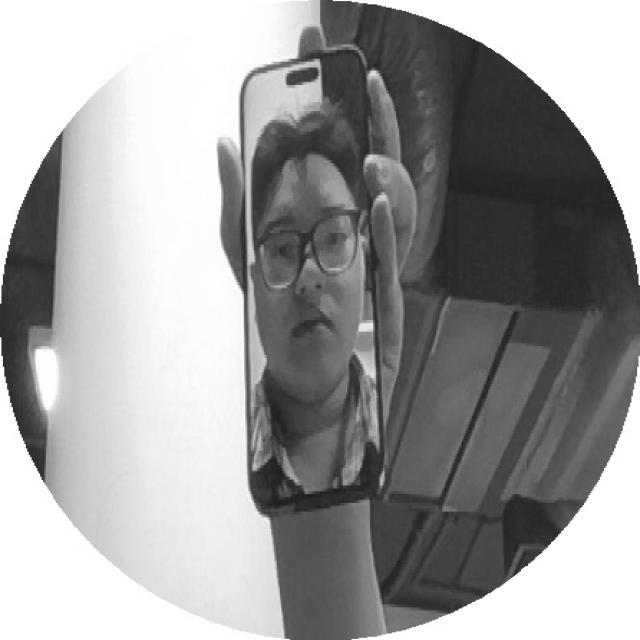fake: (225, 38, 410, 518), (231, 43, 397, 523)
